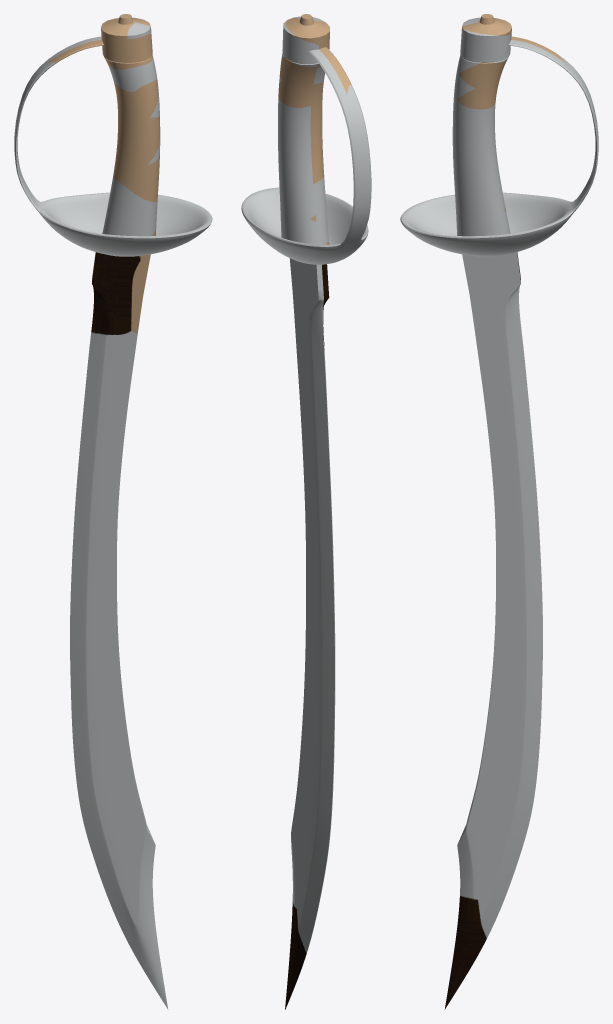
File: Pirate sword.fbx
The picture shows the model from 3 angles, left to right: view 1: azimuth 90°, elevation 25°; view 2: azimuth 210°, elevation 25°; view 3: azimuth 270°, elevation 25°; orthographic projection.
Parts seen in each view (by area): view 1: Pirate_Sword; view 2: Pirate_Sword; view 3: Pirate_Sword.
Boxes of the visible parts, <box> form: Pirate_Sword: <box>14,14,212,1009</box>; Pirate_Sword: <box>241,14,371,1009</box>; Pirate_Sword: <box>400,14,598,1009</box>.
Size of the model in its own units: 7.29 by 75.03 by 13.57.
